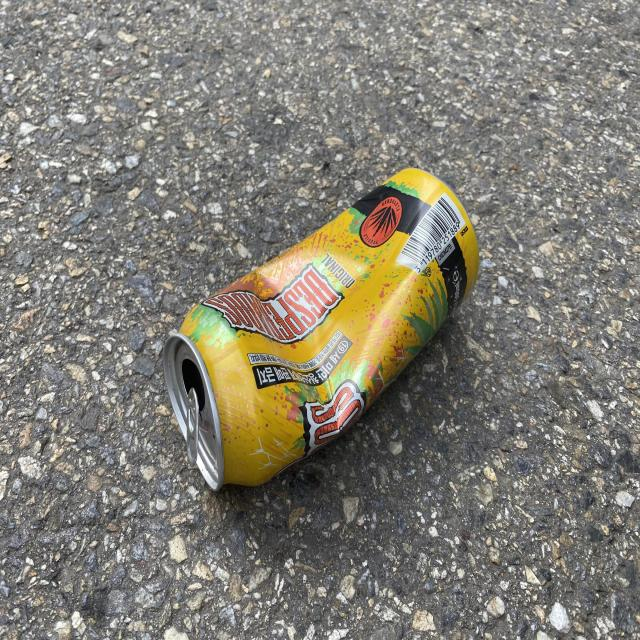can: (163, 168, 479, 491)
